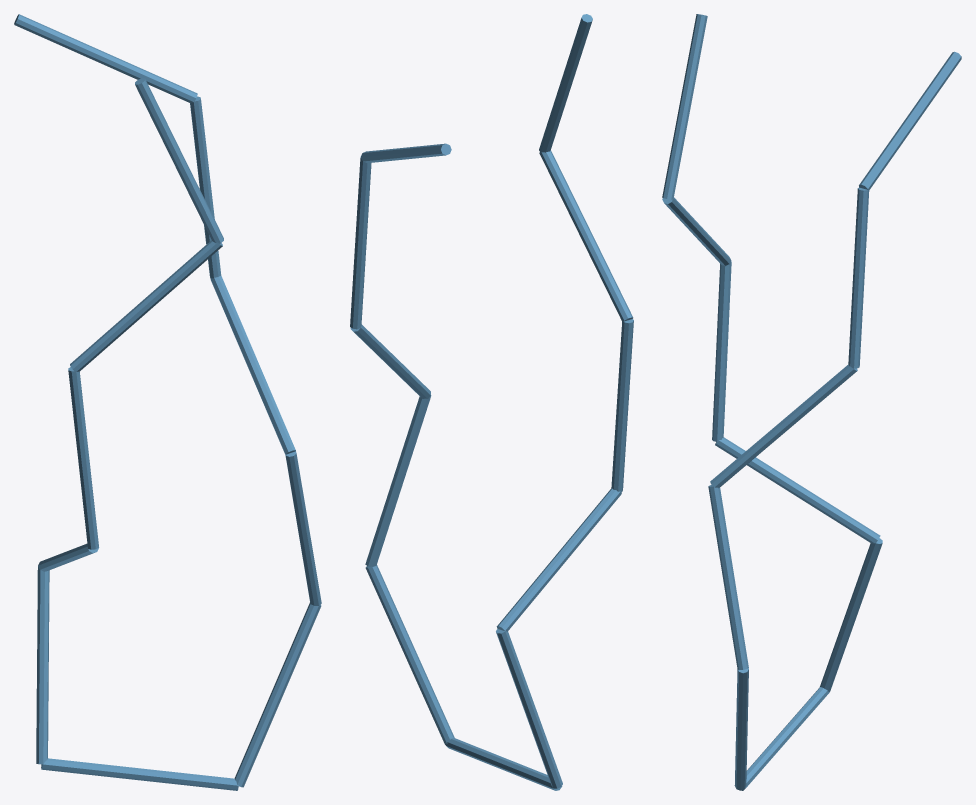
Rendered from 1le0__ribbon__default.glb.
3 views of the same model, side by side, from view 1: azimuth 30°, elevation 25°; view 2: azimuth 150°, elevation 25°; view 3: azimuth 270°, elevation 25° (orthographic). The views are drawn at different scales.
Visible parts, largest first — view 1: Renderer Node; view 2: Renderer Node; view 3: Renderer Node.
Part boxes in pixels (<box>): Renderer Node: <box>14,14,321,790</box>; Renderer Node: <box>350,14,633,790</box>; Renderer Node: <box>662,14,961,790</box>.
Size of the model in its own units: 5.87 by 16.17 by 6.08.
